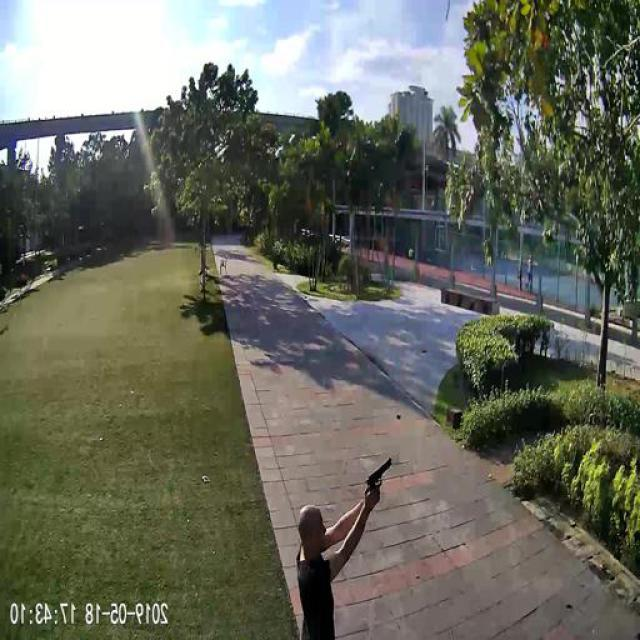Gun: (368, 452, 397, 492)
